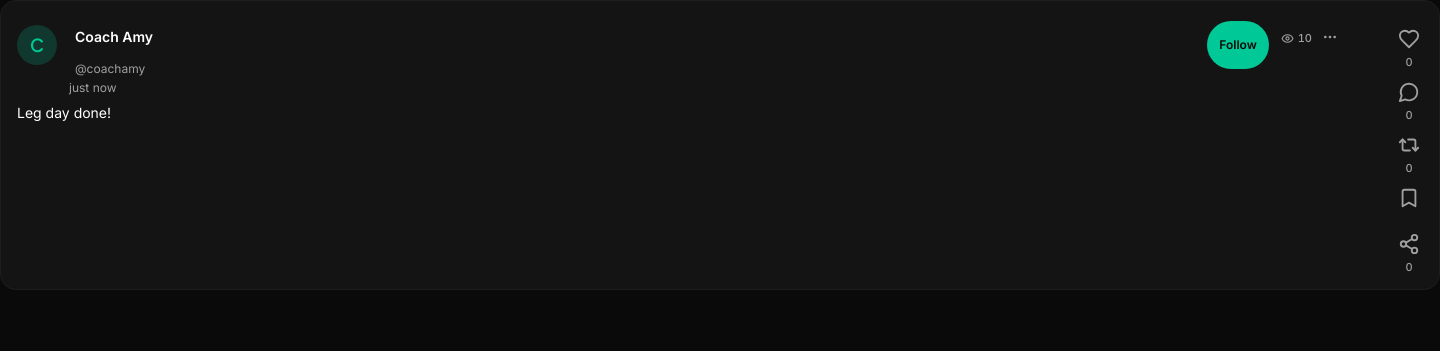
Test case: PostCard repost avatar overlay › pops the viewer avatar into the ribbon on repost
Click the button with test id "rail-repost": coordinates (1409, 148) [1387, 123, 1431, 174]
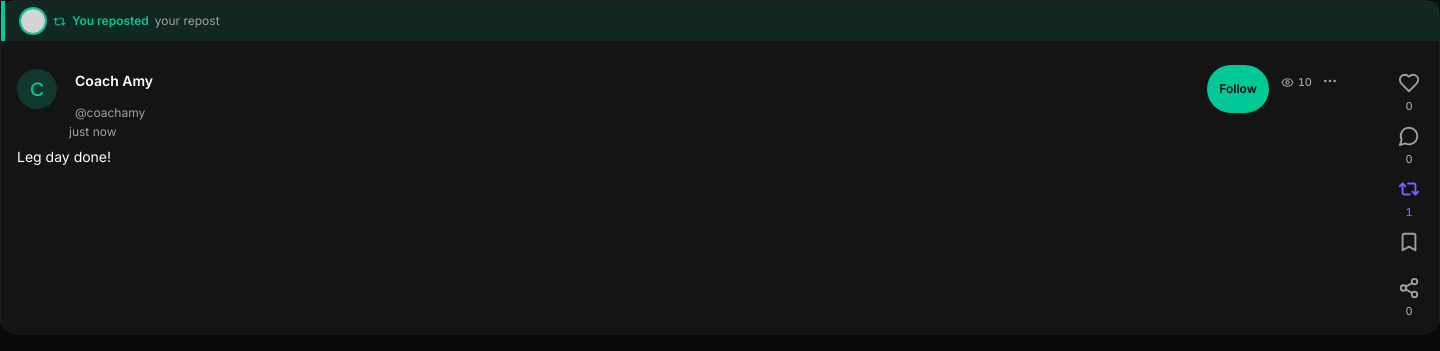
Expected: the text "You reposted" is shown, [72, 13, 149, 29]
